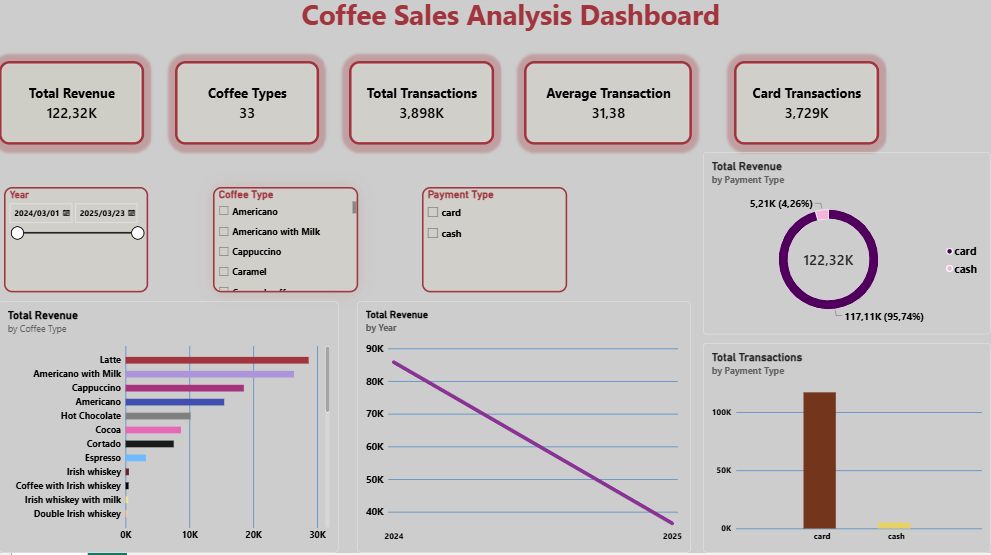

The dashboard page shown, as its layout file describes it:
{"tool":"powerbi","page":{"name":"Page 1","canvas":[1920,1080],"ordinal":0},"visuals":[{"type":"cardVisual","fields":{"Data":["Sum(SQLite 19 (1).money)"]},"box":[0,127.6,280.6,161.6],"z":0},{"type":"cardVisual","fields":{"Data":["CountNonNull(SQLite 19 (1).coffee_name)"]},"box":[678.2,127.6,280.6,161.6],"z":1000},{"type":"cardVisual","fields":{"Data":["Avg(SQLite 19 (1).money)"]},"box":[1016.2,127.6,325.3,161.6],"z":2000},{"type":"cardVisual","fields":{"Data":["CountNonNull(SQLite 19 (1).cash_type)"]},"box":[1422.3,127.6,280.6,161.6],"z":3000},{"type":"cardVisual","fields":{"Data":["Count(SQLite 19 (1).coffee_name)"]},"box":[340.2,127.6,278.5,161.6],"z":4000},{"type":"slicer","fields":{"Values":["SQLite 19 (1).date"]},"box":[10.6,372,278.5,204.1],"z":5000},{"type":"slicer","fields":{"Values":["SQLite 19 (1).coffee_name"]},"box":[414.6,372,280.6,204.1],"z":6000},{"type":"slicer","fields":{"Values":["SQLite 19 (1).cash_type"]},"box":[818.5,372,280.6,204.1],"z":7000},{"type":"clusteredBarChart","fields":{"Category":["SQLite 19 (1).coffee_name"],"Y":["Sum(SQLite 19 (1).money)"]},"box":[0,593.1,656.9,486.9],"z":8000},{"type":"lineChart","fields":{"Category":["SQLite 19 (1).date.Variation.Date Hierarchy.Year","SQLite 19 (1).date.Variation.Date Hierarchy.Quarter","SQLite 19 (1).date.Variation.Date Hierarchy.Month"],"Y":["Sum(SQLite 19 (1).money)"]},"box":[693.1,593.1,646.3,486.9],"z":9000},{"type":"donutChart","fields":{"Category":["SQLite 19 (1).cash_type"],"Y":["Sum(SQLite 19 (1).money)"]},"box":[1362.8,304,557,352.9],"z":10000},{"type":"clusteredColumnChart","fields":{"Category":["SQLite 19 (1).cash_type"],"Y":["Sum(SQLite 19 (1).money)"]},"box":[1362.8,673.9,557,406.1],"z":11000},{"type":"textbox","box":[338,0,1303.2,87.2],"z":12000}]}

Visuals, with their boxes in screenshot pixels (x1, y1, x2, y2), scaled from the page's 1920x1080 canvas onto the 991x555 screenshot:
cardVisual - Sum(SQLite 19 (1).money): 0, 66, 145, 149
cardVisual - CountNonNull(SQLite 19 (1).coffee_name): 350, 66, 495, 149
cardVisual - Avg(SQLite 19 (1).money): 525, 66, 692, 149
cardVisual - CountNonNull(SQLite 19 (1).cash_type): 734, 66, 879, 149
cardVisual - Count(SQLite 19 (1).coffee_name): 176, 66, 319, 149
slicer - SQLite 19 (1).date: 5, 191, 149, 296
slicer - SQLite 19 (1).coffee_name: 214, 191, 359, 296
slicer - SQLite 19 (1).cash_type: 422, 191, 567, 296
clusteredBarChart - SQLite 19 (1).coffee_name x Sum(SQLite 19 (1).money): 0, 305, 339, 554
lineChart - SQLite 19 (1).date.Variation.Date Hierarchy.Year x SQLite 19 (1).date.Variation.Date Hierarchy.Quarter: 358, 305, 691, 554
donutChart - SQLite 19 (1).cash_type x Sum(SQLite 19 (1).money): 703, 156, 990, 338
clusteredColumnChart - SQLite 19 (1).cash_type x Sum(SQLite 19 (1).money): 703, 346, 990, 554
textbox: 174, 0, 847, 45
